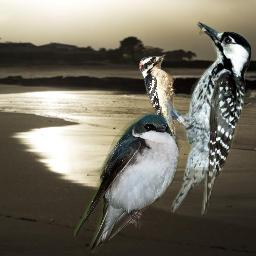Swallow: (74, 109, 183, 253)
Woodpecker: (166, 20, 251, 215), (139, 54, 176, 138)
